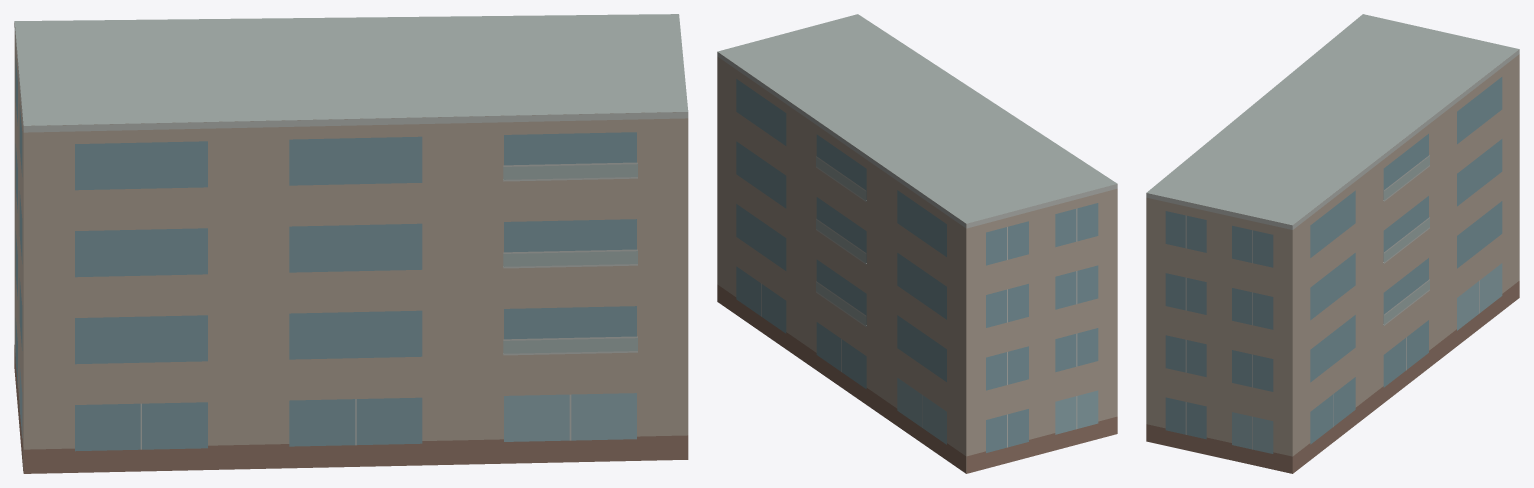
Rendered from survey-upis-32671424.glb.
3 renders of one model, left to right at view 1: azimuth 30°, elevation 25°; view 2: azimuth 150°, elevation 25°; view 3: azimuth 270°, elevation 25°, orthographic. The views are drawn at different scales.
Visible parts, largest first — view 1: survey-upis-32671424.tmp; view 2: survey-upis-32671424.tmp; view 3: survey-upis-32671424.tmp.
Part boxes in pixels (x1,y1,x2,y2): survey-upis-32671424.tmp: [14, 14, 688, 473]; survey-upis-32671424.tmp: [717, 14, 1117, 473]; survey-upis-32671424.tmp: [1146, 14, 1519, 473].
Bounding box in the file's own units: 23.35 × 12.8 × 17.44.
